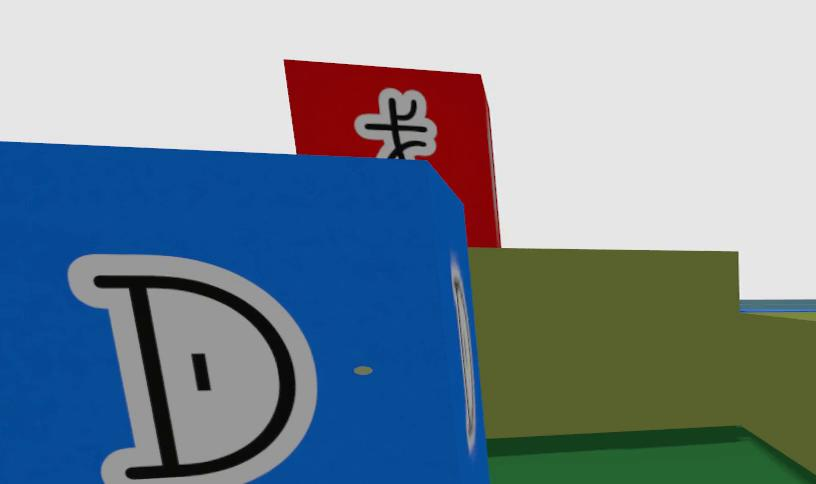KFS_FAKE: (285, 60, 499, 247), (355, 89, 436, 158)
KFS_REAL: (0, 142, 487, 484), (69, 255, 316, 484)
